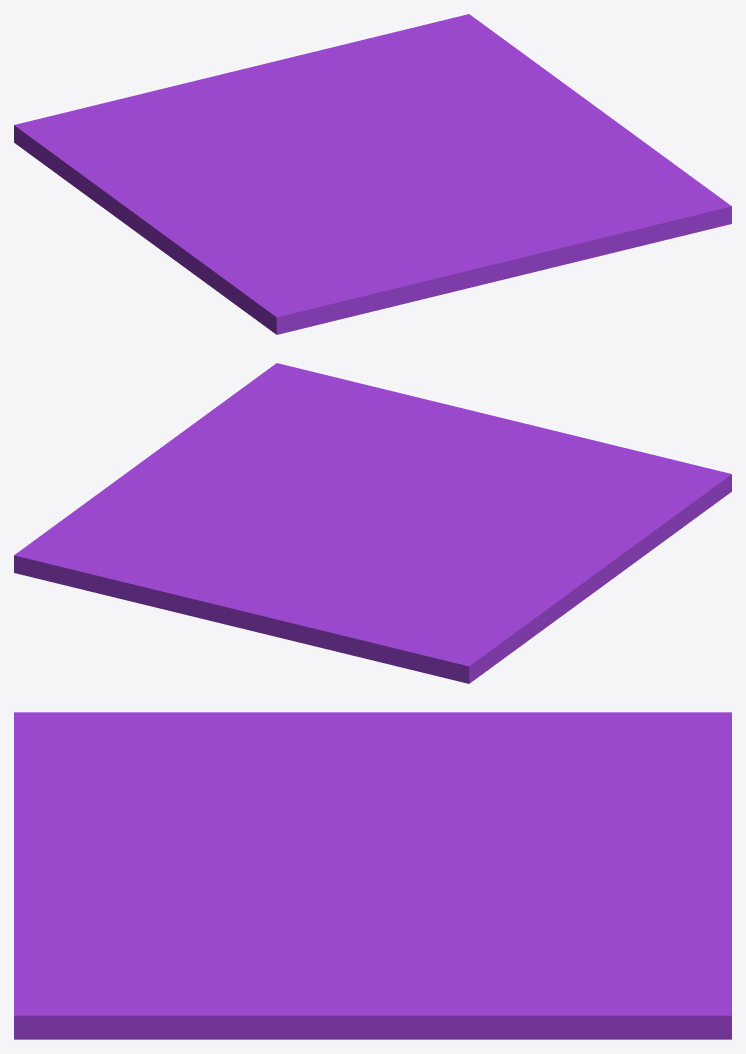
File: Platform_28_chunks.fbx
3 views of the same model, one above another, from view 1: azimuth 30°, elevation 25°; view 2: azimuth 150°, elevation 25°; view 3: azimuth 270°, elevation 25° (orthographic). The views are drawn at different scales.
Parts seen in each view (by area): view 1: Platform_28_10, Platform_28_8, Platform_28_4, Platform_28_12, Platform_28_7, Platform_28_2, Platform_28_9, Platform_28_6, Platform_28_1, Platform_28_11, Platform_28_0; view 2: Platform_28_10, Platform_28_8, Platform_28_4, Platform_28_2, Platform_28_7, Platform_28_12, Platform_28_6, Platform_28_1, Platform_28_0, Platform_28_11, Platform_28_9; view 3: Platform_28_4, Platform_28_10, Platform_28_2, Platform_28_8, Platform_28_12, Platform_28_7, Platform_28_6, Platform_28_1, Platform_28_11, Platform_28_0, Platform_28_9.
Part boxes in pixels (x1=…): Platform_28_10: x1=208, y1=186, x2=446, y2=334; Platform_28_8: x1=14, y1=96, x2=233, y2=244; Platform_28_4: x1=378, y1=101, x2=697, y2=181; Platform_28_12: x1=439, y1=174, x2=731, y2=247; Platform_28_7: x1=153, y1=146, x2=359, y2=287; Platform_28_2: x1=346, y1=14, x2=588, y2=105; Platform_28_9: x1=397, y1=226, x2=633, y2=305; Platform_28_6: x1=134, y1=72, x2=326, y2=150; Platform_28_1: x1=287, y1=44, x2=428, y2=152; Platform_28_11: x1=337, y1=165, x2=554, y2=214; Platform_28_0: x1=232, y1=58, x2=388, y2=171; Platform_28_10: x1=432, y1=441, x2=731, y2=538; Platform_28_8: x1=349, y1=562, x2=611, y2=683; Platform_28_4: x1=134, y1=388, x2=363, y2=523; Platform_28_2: x1=14, y1=468, x2=221, y2=603; Platform_28_7: x1=356, y1=516, x2=667, y2=581; Platform_28_12: x1=243, y1=363, x2=459, y2=465; Platform_28_6: x1=221, y1=541, x2=410, y2=654; Platform_28_1: x1=137, y1=519, x2=343, y2=623; Platform_28_0: x1=196, y1=509, x2=390, y2=622; Platform_28_11: x1=300, y1=444, x2=440, y2=517; Platform_28_9: x1=422, y1=398, x2=594, y2=457; Platform_28_4: x1=95, y1=872, x2=501, y2=1039; Platform_28_10: x1=14, y1=712, x2=340, y2=863; Platform_28_2: x1=391, y1=933, x2=731, y2=1039; Platform_28_8: x1=342, y1=712, x2=731, y2=804; Platform_28_12: x1=14, y1=859, x2=224, y2=1039; Platform_28_7: x1=200, y1=712, x2=511, y2=854; Platform_28_6: x1=459, y1=792, x2=731, y2=857; Platform_28_1: x1=407, y1=875, x2=731, y2=933; Platform_28_11: x1=191, y1=832, x2=365, y2=948; Platform_28_0: x1=363, y1=853, x2=731, y2=894; Platform_28_9: x1=14, y1=803, x2=152, y2=918.
Bounding box in the file's own units: 810 × 29.87 × 810.
